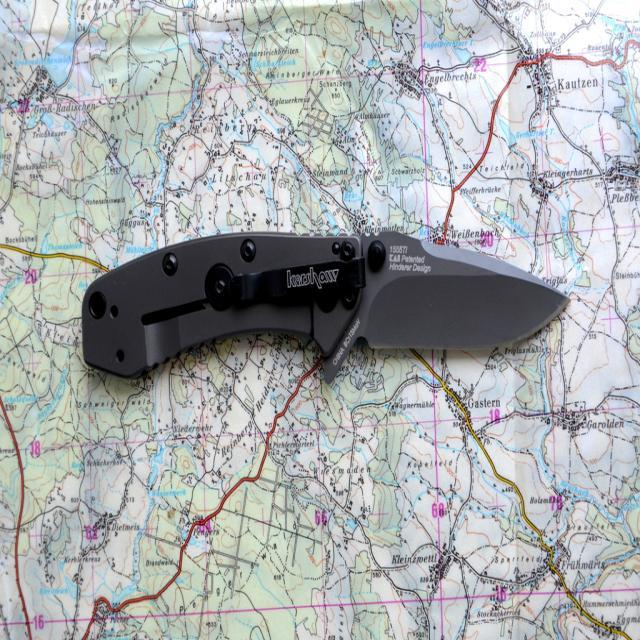Knife: (84, 232, 569, 381)
